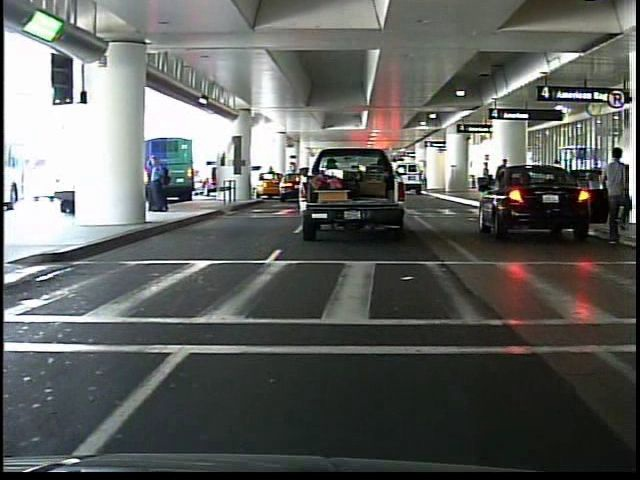person: (594, 144, 635, 245), (147, 148, 173, 216)
